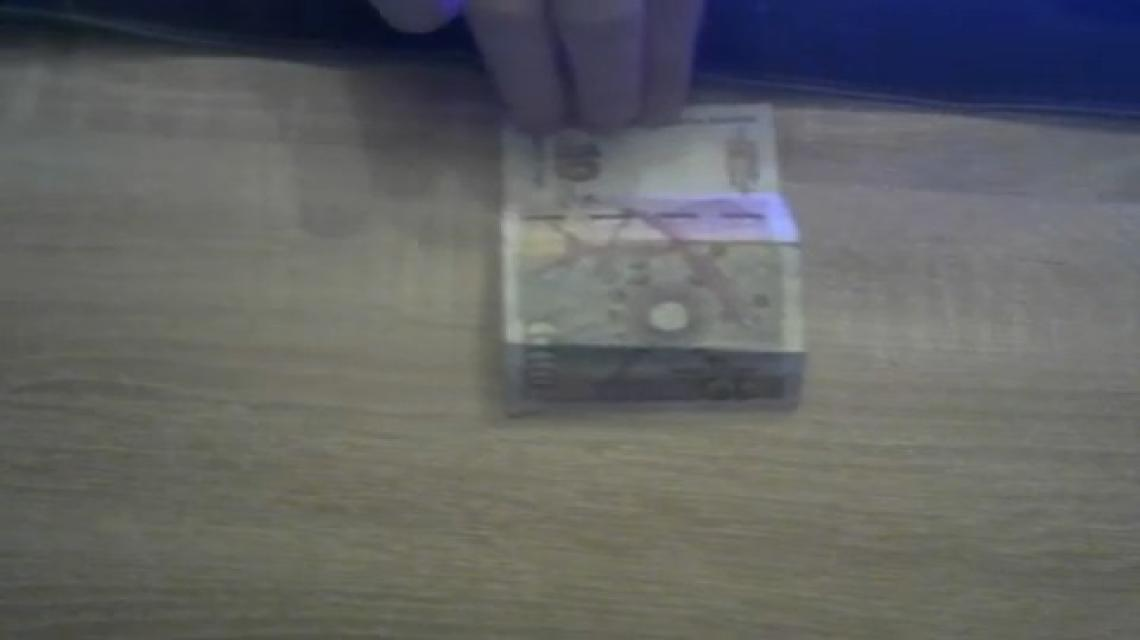10leva: (501, 139, 810, 409)
